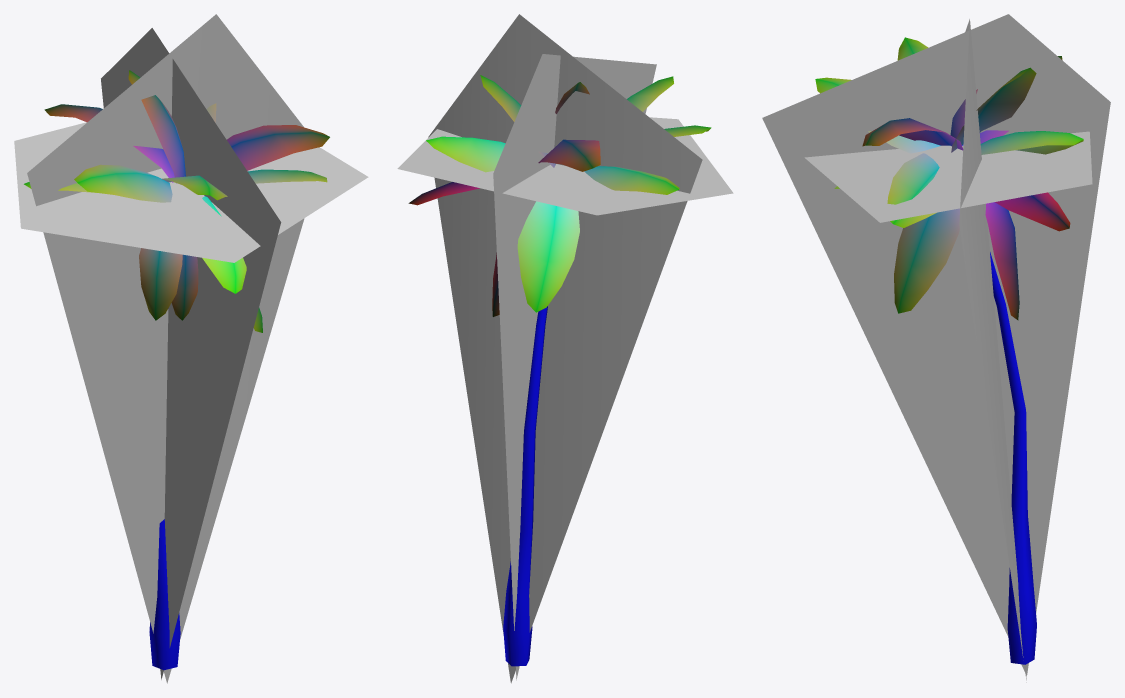
The model's file is PalmB_02.fbx.
The picture shows the model from 3 angles, left to right: view 1: azimuth 30°, elevation 25°; view 2: azimuth 150°, elevation 25°; view 3: azimuth 270°, elevation 25°; orthographic projection. The views are drawn at different scales.
Parts seen in each view (by area): view 1: PalmB_02_billboard, PalmB_02; view 2: PalmB_02_billboard, PalmB_02; view 3: PalmB_02_billboard, PalmB_02.
Boxes of the visible parts, <box> form: PalmB_02_billboard: <box>14,14,368,683</box>; PalmB_02: <box>24,70,329,670</box>; PalmB_02_billboard: <box>397,14,733,683</box>; PalmB_02: <box>408,75,711,666</box>; PalmB_02_billboard: <box>762,14,1110,682</box>; PalmB_02: <box>815,37,1083,664</box>.
Bounding box in the file's own units: 276 × 568 × 266.
